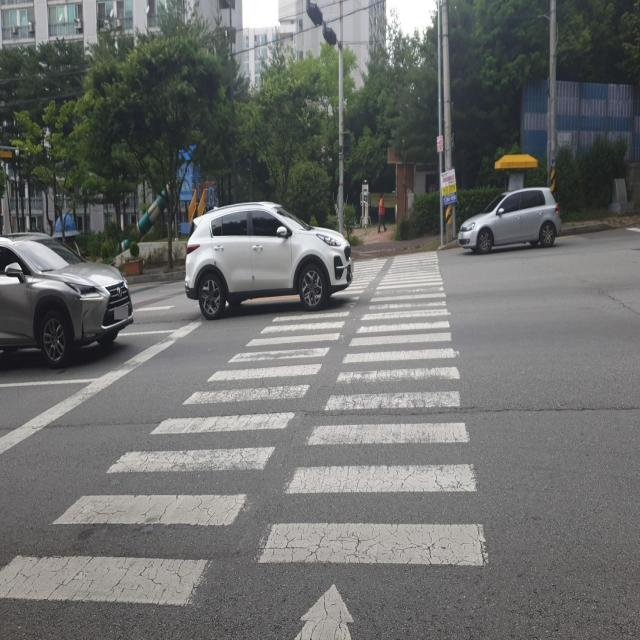횡단보도: (1, 248, 488, 640)
